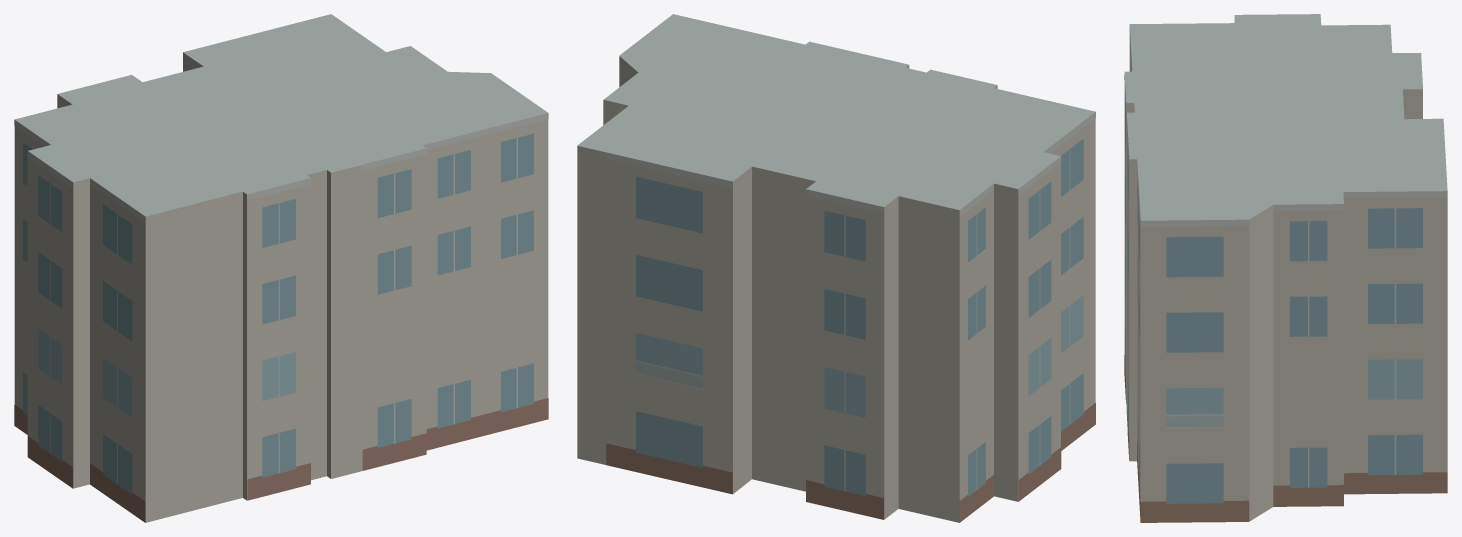
File: survey-upis-32701386.glb
3 renders of one model, left to right at view 1: azimuth 30°, elevation 25°; view 2: azimuth 150°, elevation 25°; view 3: azimuth 270°, elevation 25°, orthographic. The views are drawn at different scales.
Visible parts, largest first — view 1: survey-upis-32701386.tmp; view 2: survey-upis-32701386.tmp; view 3: survey-upis-32701386.tmp.
Part boxes in pixels (x1,y1,x2,y2): survey-upis-32701386.tmp: (14, 14, 548, 522); survey-upis-32701386.tmp: (577, 14, 1095, 522); survey-upis-32701386.tmp: (1124, 14, 1447, 522).
Size of the model in its own units: 17.2 by 11.71 by 11.35.
